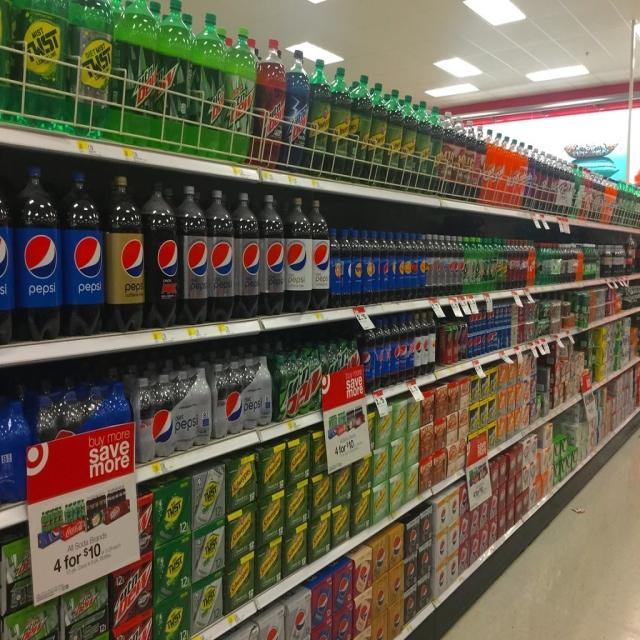Plastics: (0, 6, 640, 324)
